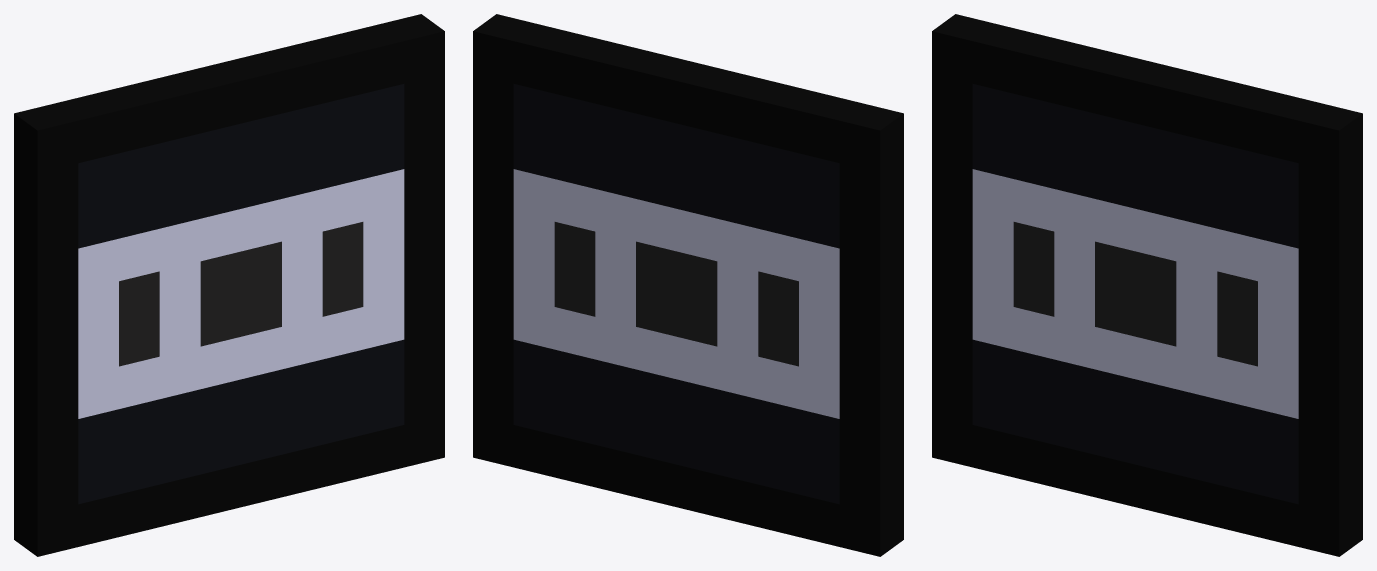
Rendered from Black Paintball Explosive Item.glb.
3 views of the same model, side by side, from view 1: azimuth 30°, elevation 25°; view 2: azimuth 150°, elevation 25°; view 3: azimuth 330°, elevation 25° (orthographic).
Parts seen in each view (by area): view 1: generated; view 2: generated; view 3: generated.
Boxes of the visible parts, x1,y1,x2,y2 form: generated: (14, 14, 444, 556); generated: (473, 14, 903, 556); generated: (932, 14, 1362, 556).
Bounding box in the file's own units: 10 × 10 × 1.
Materials: 1 (1 with a texture image).
